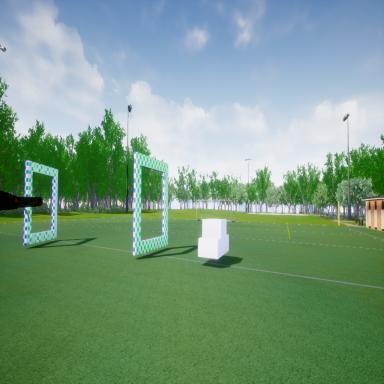gate: (130, 145, 171, 264), (23, 158, 59, 254)
